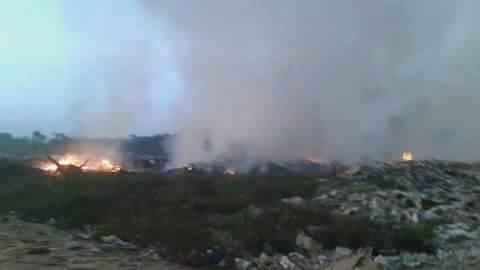fire: (59, 153, 114, 170)
smoke: (191, 93, 288, 162)
